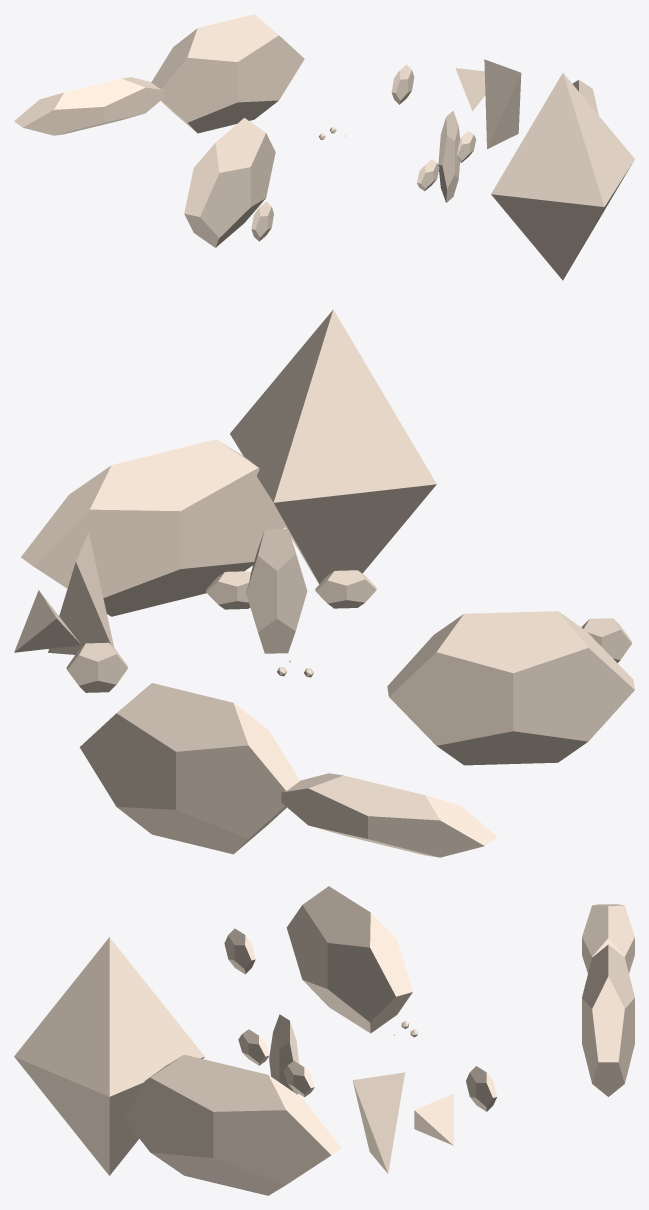
The model's file is mountains.gltf.
3 renders of one model, top to bottom at view 1: azimuth 30°, elevation 25°; view 2: azimuth 150°, elevation 25°; view 3: azimuth 270°, elevation 25°, orthographic. The views are drawn at different scales.
Bounding box in the file's own units: 5346 × 2375 × 5591.
